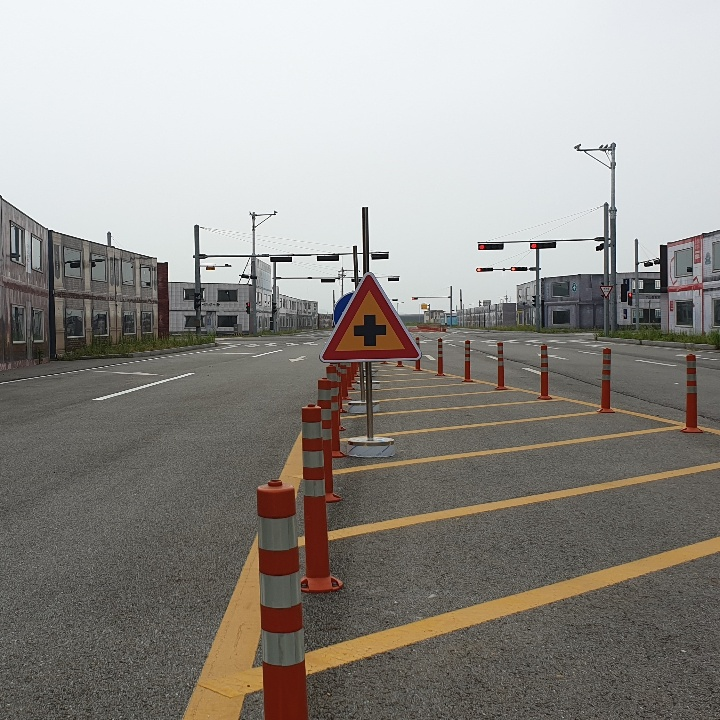inter: (351, 308, 391, 350)
